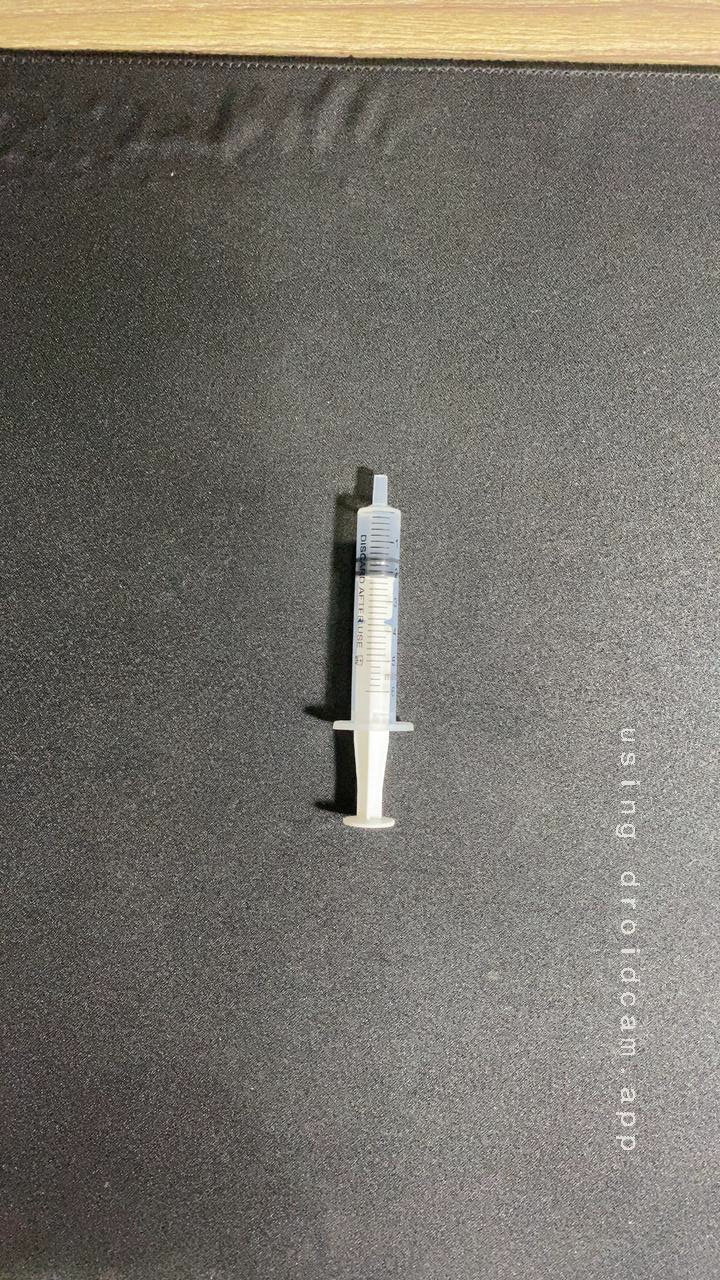syringe: (288, 454, 468, 861)
